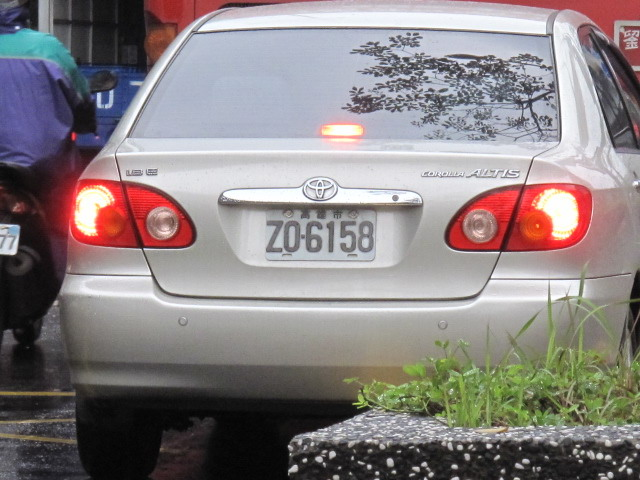plate: (262, 206, 377, 265)
